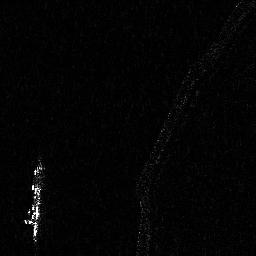ship: (24, 159, 46, 242)
